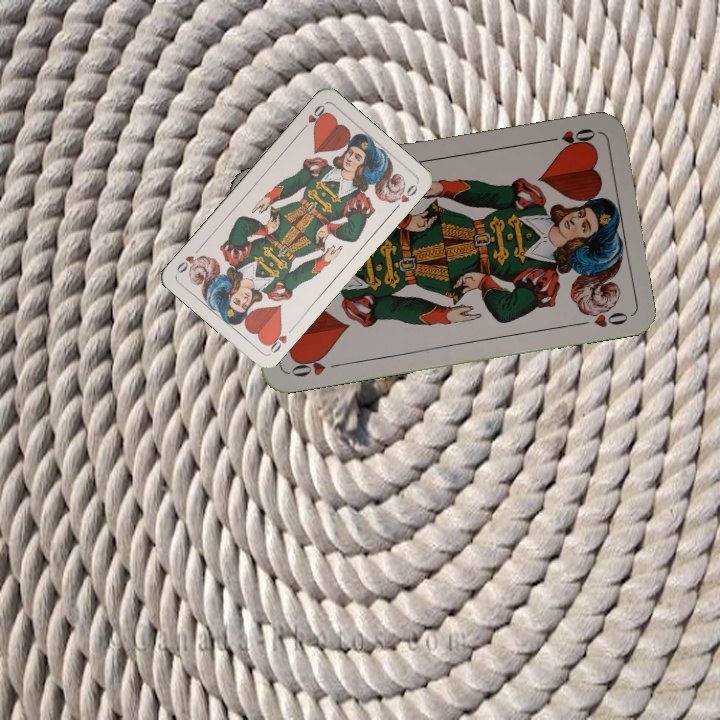HO: (285, 351, 344, 380), (540, 124, 599, 150), (297, 101, 329, 134), (262, 324, 290, 357)
